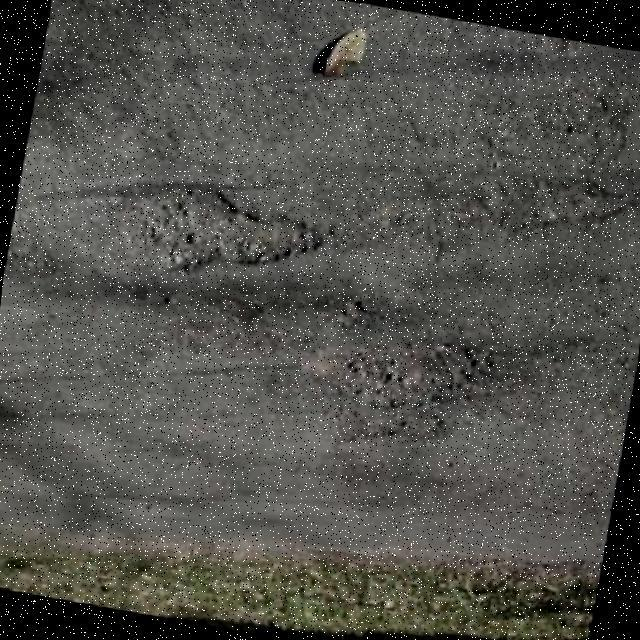Pothole: (371, 180, 630, 261), (302, 344, 493, 443), (133, 185, 323, 273), (531, 81, 639, 163)
